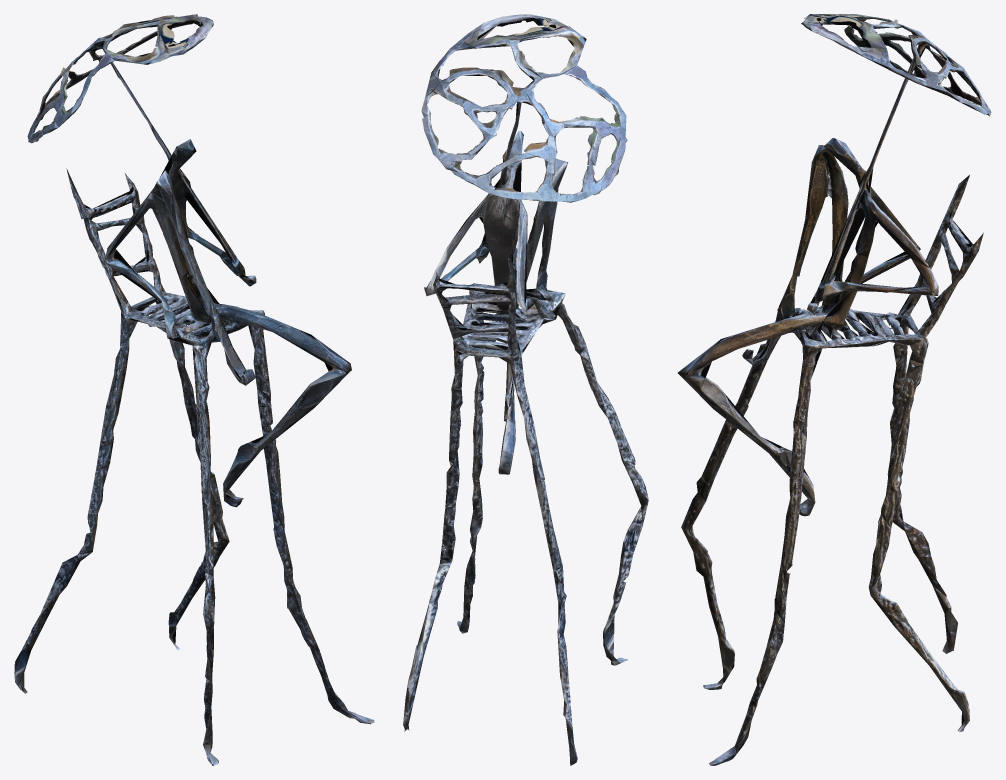
Rendered from umbsit_cprs.glb.
The picture shows the model from 3 angles, left to right: view 1: azimuth 30°, elevation 25°; view 2: azimuth 150°, elevation 25°; view 3: azimuth 270°, elevation 25°; orthographic projection.
Visible parts, largest first — view 1: model.001; view 2: model.001; view 3: model.001.
Boxes of the visible parts, x1,y1,x2,y2 form: model.001: [14, 14, 374, 765]; model.001: [403, 14, 648, 765]; model.001: [677, 14, 991, 765].
Bounding box in the file's own units: 0.2821 × 0.7335 × 0.3077.
Materials: 1 (1 with a texture image).
